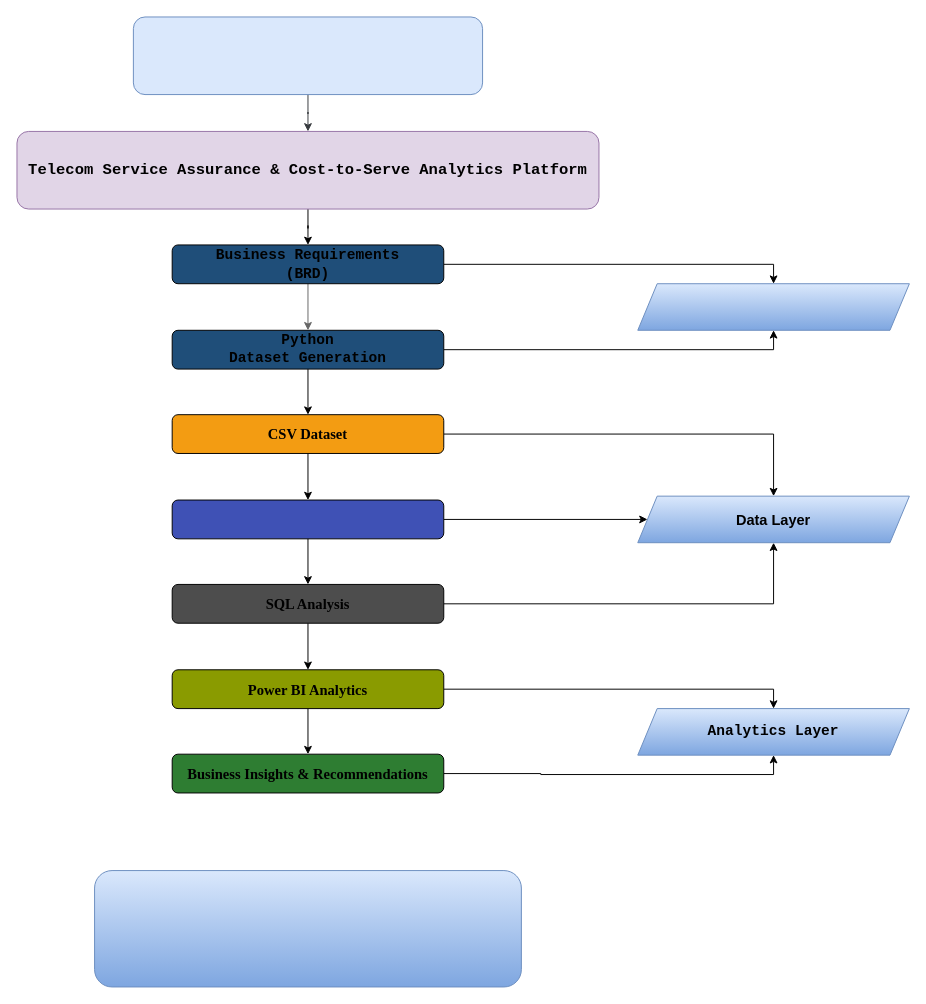
This 926x1004 diagram has some shape labels left out. The box of each missing label's shape, as (x1, y1, x2, y2) in pixels:
Business Layer: (637, 283, 909, 330)
MySQL Database: (171, 499, 444, 539)
Project Architecture: (132, 16, 483, 95)
Technology Stack Python • MySQL • SQL • Power BI: (94, 870, 521, 987)
